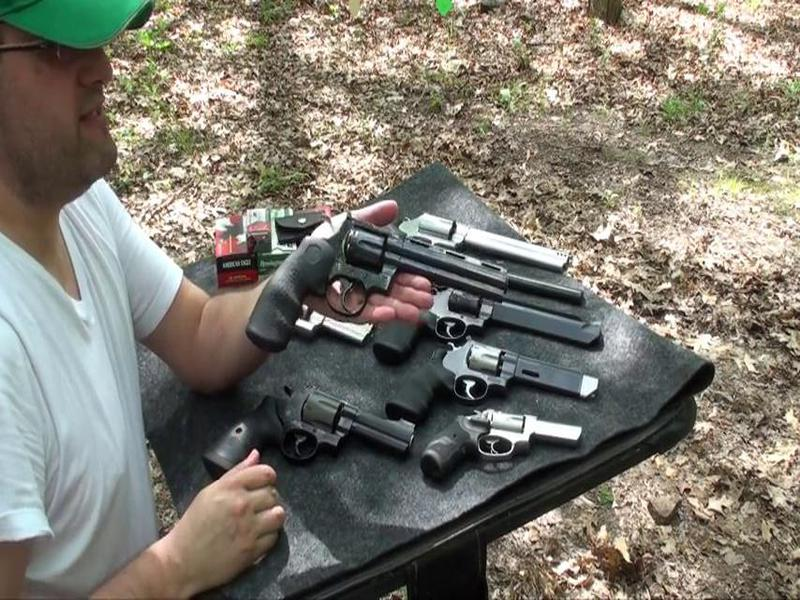Revolver: (237, 213, 541, 376)
